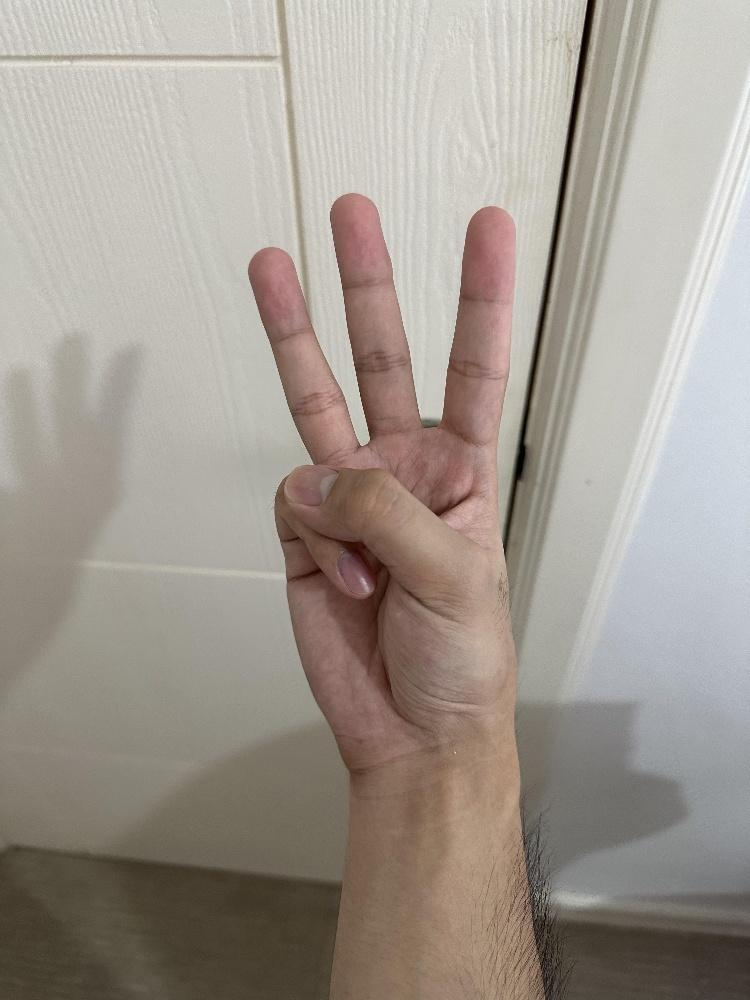w: (244, 188, 520, 774)
